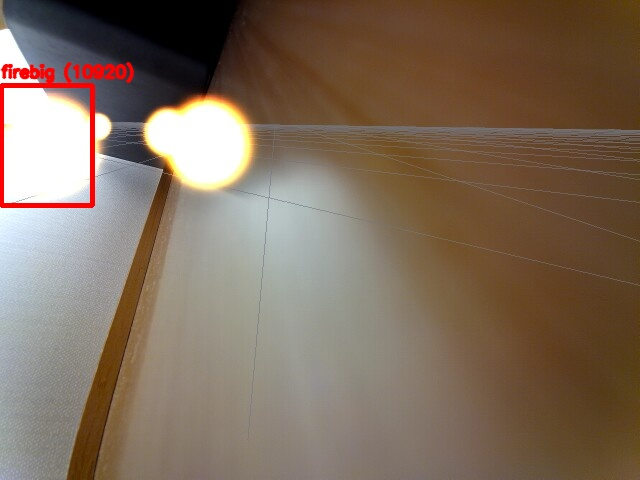firebig: (1, 85, 92, 205)
